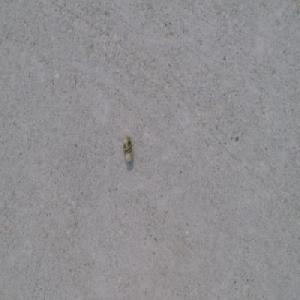BoltNutSet: (122, 136, 133, 163)
